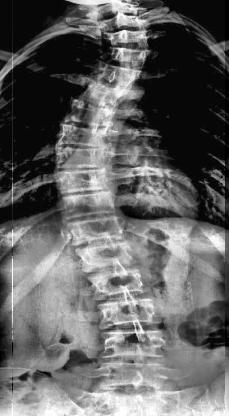Vertebrae: (71, 237, 139, 275), (94, 295, 164, 331), (94, 358, 172, 390), (87, 264, 151, 302), (97, 327, 170, 360), (51, 164, 119, 196), (64, 99, 136, 129), (62, 214, 128, 246), (78, 79, 146, 109), (51, 142, 121, 168), (57, 192, 117, 222), (56, 122, 122, 148), (95, 62, 145, 90), (99, 12, 149, 34), (105, 43, 155, 65), (106, 29, 154, 49)
